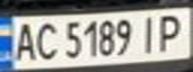1: (81, 17, 100, 59)
5: (60, 17, 84, 60)
8: (97, 16, 118, 57)
9: (112, 16, 139, 56)
A: (9, 19, 39, 62)
C: (33, 19, 60, 61)
I: (136, 12, 163, 54)
P: (151, 10, 190, 53)
